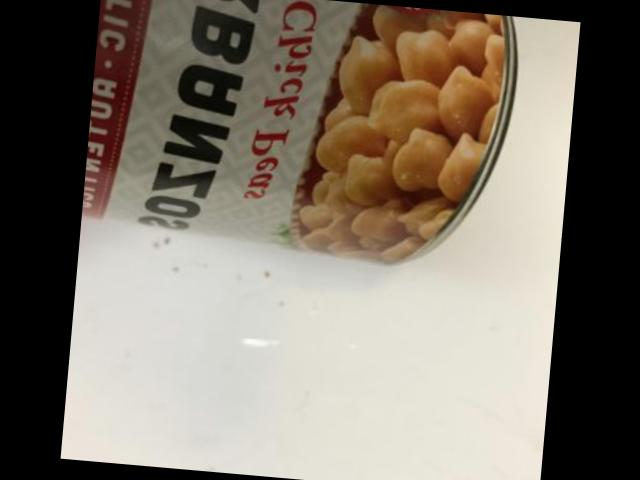metal: (81, 0, 517, 262)
